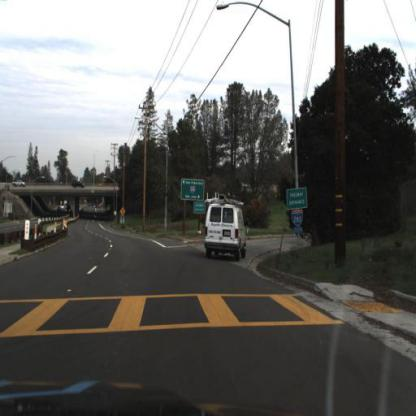car: (204, 195, 246, 263), (73, 180, 86, 190), (14, 180, 28, 189)
